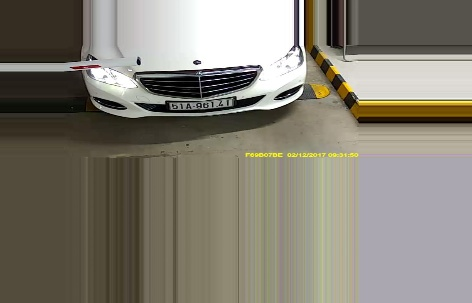plate: (169, 100, 240, 110)
